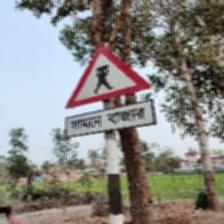Market-in-front: (63, 44, 156, 139)
